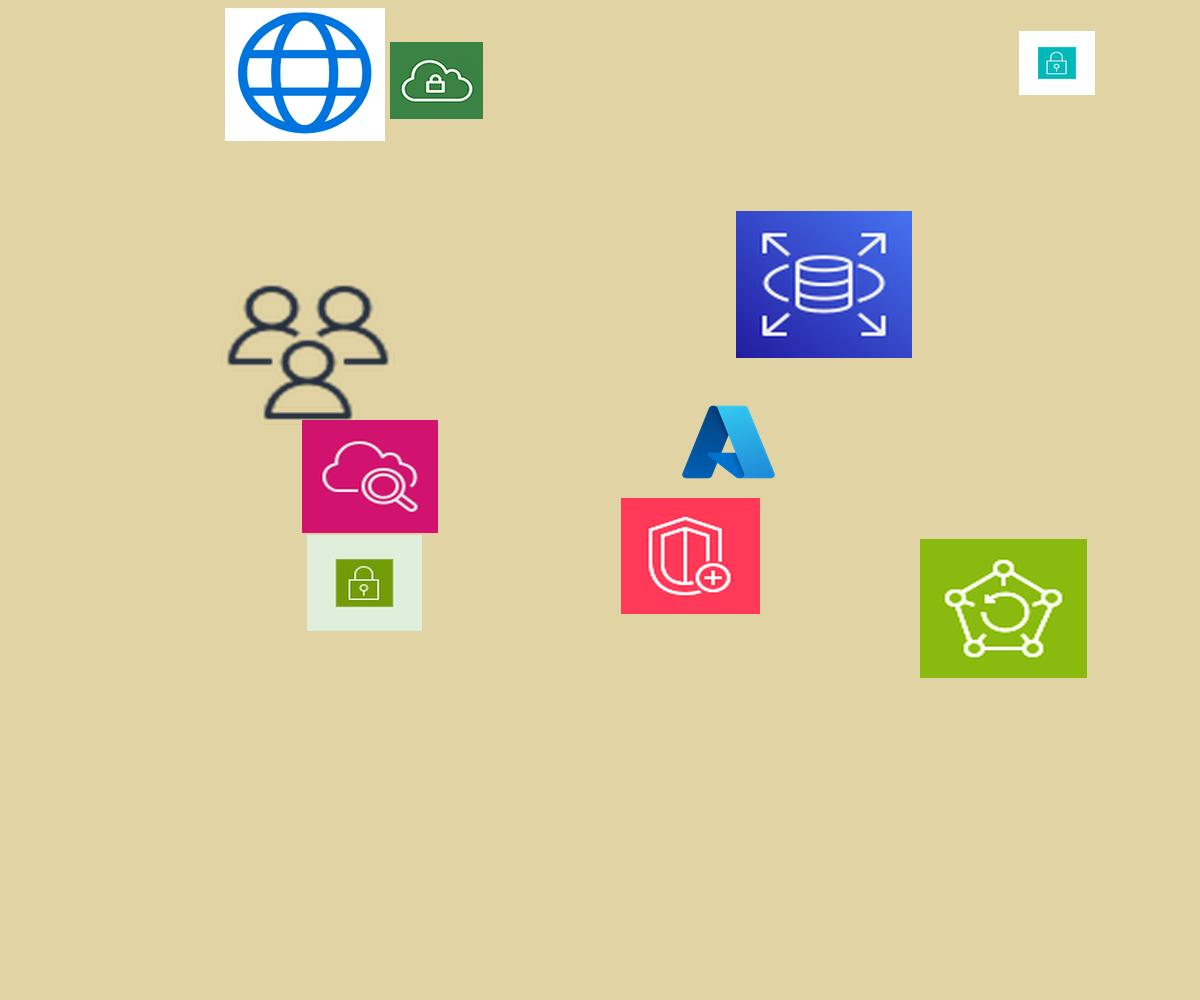AWS-Backup: (920, 539, 1087, 678)
AWS-CloudWatch: (302, 420, 438, 533)
AWS-Private-subnet: (1019, 31, 1095, 95)
AWS-Private_vpc: (390, 42, 483, 119)
AWS-Public-subnet: (307, 535, 422, 631)
AWS-RDS: (736, 211, 912, 358)
AWS-Res_Users: (221, 280, 395, 425)
AWS-Shield: (621, 498, 760, 614)
Azure_http: (225, 8, 385, 141)
Azure_services: (678, 400, 779, 484)
